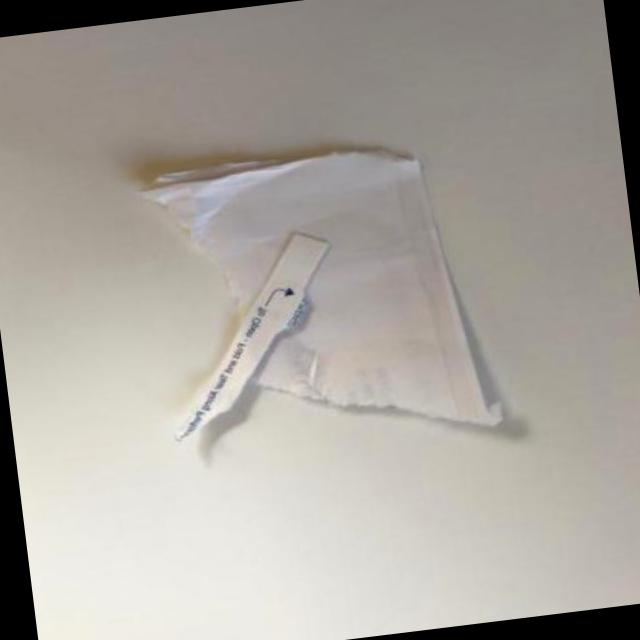cardboard paper: (144, 152, 504, 426)
